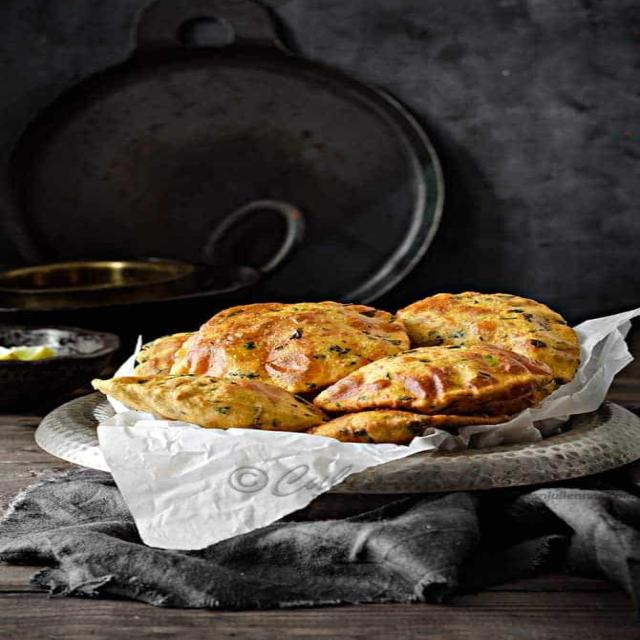POORI: (84, 289, 584, 446)
